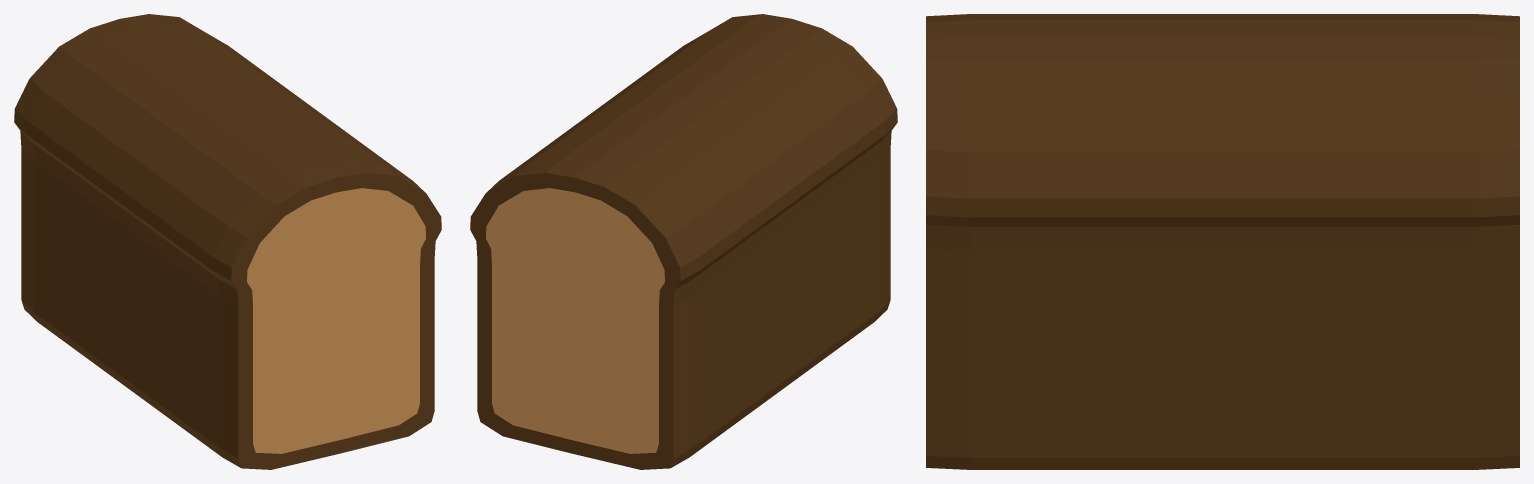
The model's file is Bread.glb.
The picture shows the model from 3 angles, left to right: view 1: azimuth 30°, elevation 25°; view 2: azimuth 150°, elevation 25°; view 3: azimuth 270°, elevation 25°; orthographic projection. The views are drawn at different scales.
Visible parts, largest first — view 1: Bread; view 2: Bread; view 3: Bread.
Part boxes in pixels (bbox=[...]): Bread: bbox=[14, 14, 441, 469]; Bread: bbox=[470, 14, 897, 469]; Bread: bbox=[926, 14, 1519, 469].
Size of the model in its own units: 69.33 by 84.7 by 120.
